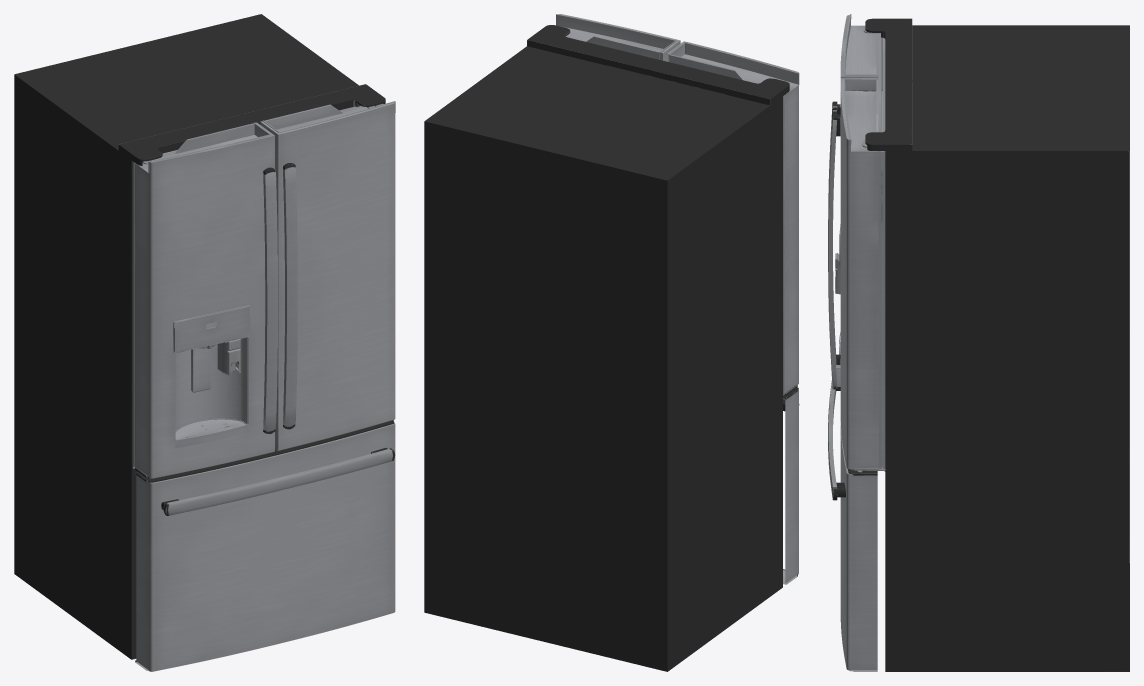
Rendered from Fridge01.glb.
3 views of the same model, side by side, from view 1: azimuth 30°, elevation 25°; view 2: azimuth 150°, elevation 25°; view 3: azimuth 270°, elevation 25° (orthographic). The views are drawn at different scales.
Parts seen in each view (by area): view 1: Refrigerator; view 2: Refrigerator; view 3: Refrigerator.
Boxes of the visible parts, x1,y1,x2,y2 form: Refrigerator: [14, 14, 395, 671]; Refrigerator: [424, 14, 799, 671]; Refrigerator: [828, 14, 1129, 671].
Bounding box in the file's own units: 90.81 × 179 × 92.08.
1 material, 1 textured.
